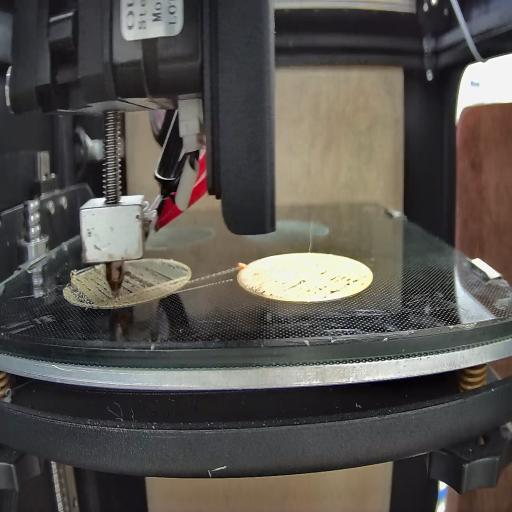under_extrusion: (289, 270, 365, 306), (121, 264, 188, 297), (66, 266, 108, 303), (247, 270, 268, 300)
